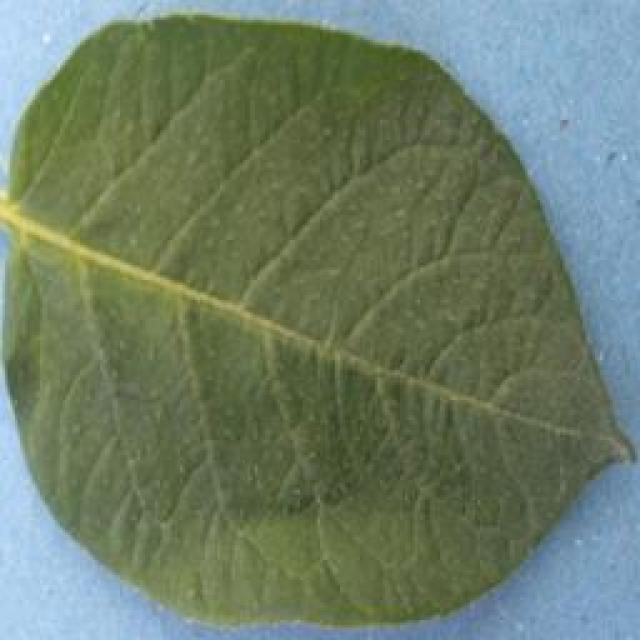Potato_Healthy: (9, 3, 636, 632)
